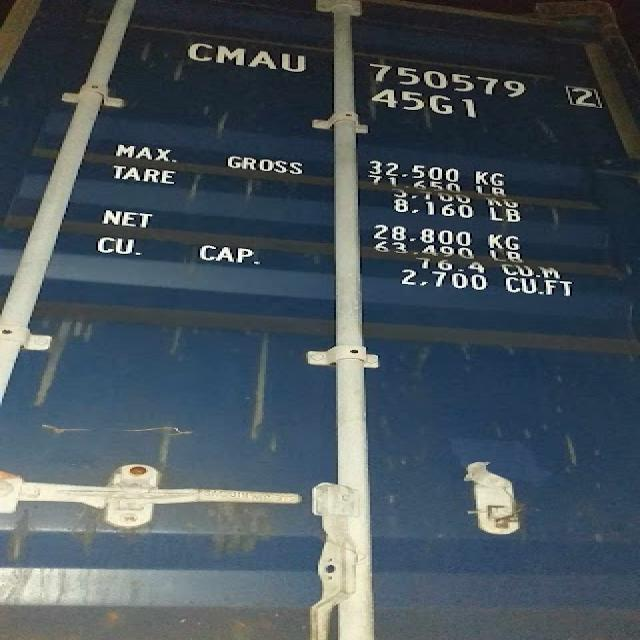ISO: (366, 92, 494, 121)
container_number: (177, 33, 614, 104)
